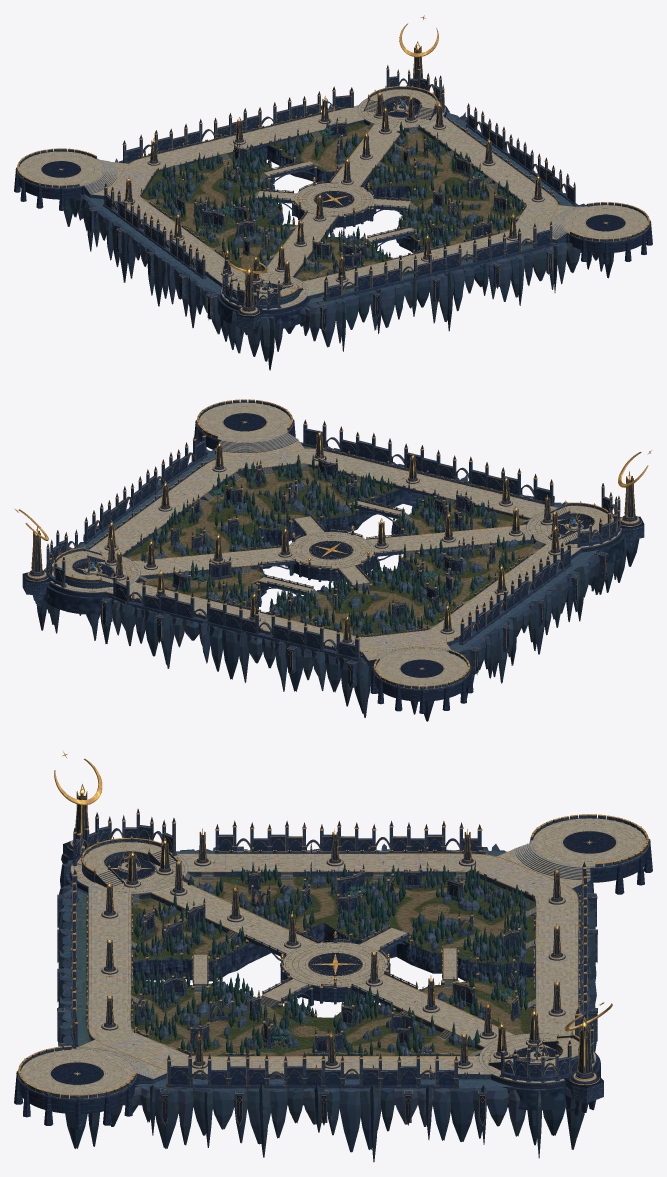
File: map-light.glb
3 views of the same model, one above another, from view 1: azimuth 30°, elevation 25°; view 2: azimuth 150°, elevation 25°; view 3: azimuth 270°, elevation 25° (orthographic). The views are drawn at different scales.
Parts seen in each view (by area): view 1: FALAISES | strates de schiste suspendues, LOD | 09 | REMPARTS | enceinte bleu ardoise et or ancien, LOD | 09 | JUNGLE | cypres dans les ilots entre chemins, SOL | sentiers et ilots sans superposition 2, SOL | sentiers et ilots sans superposition 1, 09 | VOIE | TOP - trace reference, 09 | VOIE | BOT - trace reference, LOD | 09 | JUNGLE | ruines lineaires placees comme la refere, 09 | VOIE | MID - trace reference, ARENE | Sud-est | plateforme circulaire, ARENE | Nord-ouest | plateforme circulaire, 09 | CENTRE | plateforme circulaire et rose des etoiles (+17 smaller); view 2: FALAISES | strates de schiste suspendues, LOD | 09 | REMPARTS | enceinte bleu ardoise et or ancien, LOD | 09 | JUNGLE | cypres dans les ilots entre chemins, 09 | VOIE | BOT - trace reference, SOL | sentiers et ilots sans superposition 1, SOL | sentiers et ilots sans superposition 2, 09 | VOIE | TOP - trace reference, LOD | 09 | JUNGLE | ruines lineaires placees comme la refere, 09 | VOIE | MID - trace reference, ARENE | Nord-ouest | plateforme circulaire, ARENE | Sud-est | plateforme circulaire, 09 | CENTRE | plateforme circulaire et rose des etoiles (+22 smaller); view 3: FALAISES | strates de schiste suspendues, LOD | 09 | JUNGLE | cypres dans les ilots entre chemins, 09 | VOIE | TOP - trace reference, LOD | 09 | REMPARTS | enceinte bleu ardoise et or ancien, SOL | sentiers et ilots sans superposition 1, SOL | sentiers et ilots sans superposition 2, 09 | VOIE | BOT - trace reference, LOD | 09 | JUNGLE | ruines lineaires placees comme la refere, 09 | VOIE | MID - trace reference, ARENE | Sud-est | plateforme circulaire, 09 | SOL | plateaux traces et faille verticale, ARENE | Nord-ouest | plateforme circulaire (+22 smaller).
Part boxes in pixels (bbox=[...]): FALAISES | strates de schiste suspendues: bbox=[63, 104, 614, 370]; LOD | 09 | REMPARTS | enceinte bleu ardoise et or ancien: bbox=[103, 86, 576, 301]; LOD | 09 | JUNGLE | cypres dans les ilots entre chemins: bbox=[148, 121, 523, 271]; SOL | sentiers et ilots sans superposition 2: bbox=[269, 111, 577, 250]; SOL | sentiers et ilots sans superposition 1: bbox=[84, 150, 391, 294]; 09 | VOIE | TOP - trace reference: bbox=[108, 105, 364, 284]; 09 | VOIE | BOT - trace reference: bbox=[303, 116, 558, 298]; LOD | 09 | JUNGLE | ruines lineaires placees comme la refere: bbox=[177, 117, 507, 268]; 09 | VOIE | MID - trace reference: bbox=[266, 124, 403, 276]; ARENE | Sud-est | plateforme circulaire: bbox=[561, 204, 650, 252]; ARENE | Nord-ouest | plateforme circulaire: bbox=[16, 151, 105, 199]; 09 | CENTRE | plateforme circulaire et rose des etoiles: bbox=[293, 180, 374, 227]; FALAISES | strates de schiste suspendues: bbox=[36, 442, 639, 721]; LOD | 09 | REMPARTS | enceinte bleu ardoise et or ancien: bbox=[83, 419, 572, 660]; LOD | 09 | JUNGLE | cypres dans les ilots entre chemins: bbox=[141, 454, 525, 635]; 09 | VOIE | BOT - trace reference: bbox=[89, 448, 557, 556]; SOL | sentiers et ilots sans superposition 1: bbox=[269, 496, 597, 652]; SOL | sentiers et ilots sans superposition 2: bbox=[78, 450, 398, 607]; 09 | VOIE | TOP - trace reference: bbox=[106, 544, 581, 654]; LOD | 09 | JUNGLE | ruines lineaires placees comme la refere: bbox=[170, 454, 495, 619]; 09 | VOIE | MID - trace reference: bbox=[133, 524, 533, 576]; ARENE | Nord-ouest | plateforme circulaire: bbox=[373, 648, 470, 701]; ARENE | Sud-est | plateforme circulaire: bbox=[196, 402, 293, 449]; 09 | CENTRE | plateforme circulaire et rose des etoiles: bbox=[287, 529, 375, 580]; FALAISES | strates de schiste suspendues: bbox=[58, 844, 596, 1162]; LOD | 09 | JUNGLE | cypres dans les ilots entre chemins: bbox=[134, 863, 527, 1055]; 09 | VOIE | TOP - trace reference: bbox=[177, 853, 579, 1036]; LOD | 09 | REMPARTS | enceinte bleu ardoise et or ancien: bbox=[71, 820, 587, 1088]; SOL | sentiers et ilots sans superposition 1: bbox=[131, 850, 535, 964]; SOL | sentiers et ilots sans superposition 2: bbox=[131, 977, 535, 1088]; 09 | VOIE | BOT - trace reference: bbox=[87, 887, 491, 1077]; LOD | 09 | JUNGLE | ruines lineaires placees comme la refere: bbox=[138, 864, 520, 1054]; 09 | VOIE | MID - trace reference: bbox=[150, 880, 515, 1047]; ARENE | Sud-est | plateforme circulaire: bbox=[17, 1048, 137, 1113]; 09 | SOL | plateaux traces et faille verticale: bbox=[66, 864, 600, 1110]; ARENE | Nord-ouest | plateforme circulaire: bbox=[529, 817, 649, 882].
Size of the model in its own units: 184 by 51.13 by 174.
666 materials, 666 textured.
